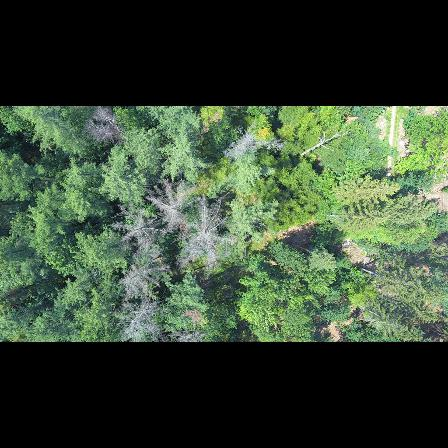Dead: (181, 203, 233, 262), (219, 125, 284, 161), (120, 295, 159, 341), (119, 256, 167, 291), (148, 183, 190, 222), (119, 210, 167, 242), (83, 107, 127, 140)
